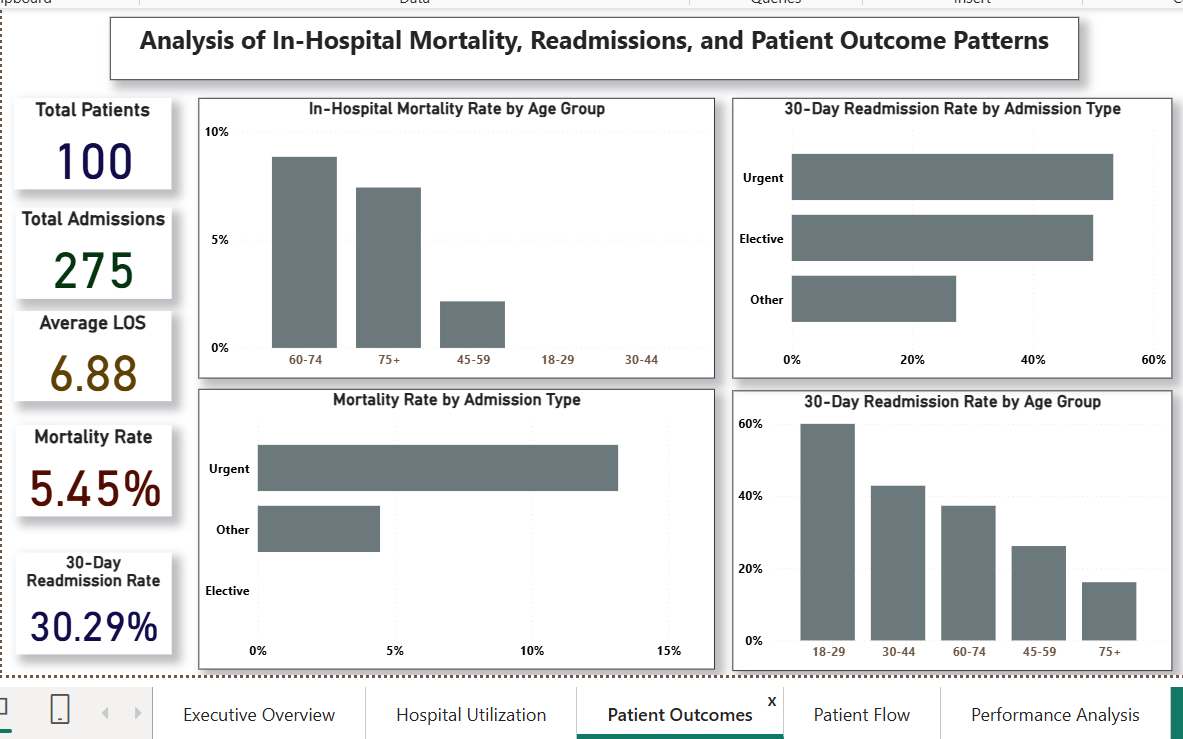

The page's visual inventory and layout, read from the dashboard file:
{"tool":"powerbi","page":{"name":"Patient Outcomes","canvas":[1280,720],"ordinal":2},"visuals":[{"type":"textbox","box":[116.6,9.7,1046,68],"z":0},{"type":"card","title":"Total Patients","fields":{"Values":["hospital_analytics.Total Patients"]},"box":[13,97.2,170,98.8],"z":1000},{"type":"card","title":"Total Admissions","fields":{"Values":["hospital_analytics.Total Admissions"]},"box":[14.6,215.4,168.4,98.8],"z":2000},{"type":"card","title":"Average LOS","fields":{"Values":["hospital_analytics.Average LOS"]},"box":[13,327.1,170,97.2],"z":3000},{"type":"card","title":"Mortality Rate","fields":{"Values":["hospital_analytics.Mortality Rate"]},"box":[14.6,450.1,168.4,98.8],"z":4000},{"type":"card","title":"30-Day Readmission Rate","fields":{"Values":["hospital_analytics.30-Day Readmission Rate"]},"box":[14.6,587.8,168.4,110.1],"z":5000},{"type":"clusteredColumnChart","title":"In-Hospital Mortality Rate by Age Group","fields":{"Category":["hospital_analytics.age_group"],"Y":["hospital_analytics.Mortality Rate"]},"box":[212.1,97.2,557,302.8],"z":6000},{"type":"clusteredBarChart","title":"Mortality Rate by Admission Type","fields":{"Category":["hospital_analytics.admission_type_group"],"Y":["hospital_analytics.Mortality Rate"]},"box":[212.1,411.3,557,302.8],"z":6001},{"type":"clusteredColumnChart","title":"30-Day Readmission Rate by Age Group","fields":{"Category":["hospital_analytics.age_group"],"Y":["hospital_analytics.30-Day Readmission Rate"]},"box":[788.6,412.9,474.4,302.8],"z":6002},{"type":"clusteredBarChart","title":"30-Day Readmission Rate by Admission Type","fields":{"Category":["hospital_analytics.admission_type_group"],"Y":["hospital_analytics.30-Day Readmission Rate"]},"box":[788.6,97.2,474.4,302.8],"z":6003}]}

Visuals, with their boxes on the page's 1280x720 design canvas (x1, y1, x2, y2). These are canvas units, not pixel positions in the 1183x739 screenshot, which may show the page scaled, cropped or inside an application window:
textbox: select_region(117, 10, 1163, 78)
"Total Patients" card: select_region(13, 97, 183, 196)
"Total Admissions" card: select_region(15, 215, 183, 314)
"Average LOS" card: select_region(13, 327, 183, 424)
"Mortality Rate" card: select_region(15, 450, 183, 549)
"30-Day Readmission Rate" card: select_region(15, 588, 183, 698)
"In-Hospital Mortality Rate by Age Group" clusteredColumnChart: select_region(212, 97, 769, 400)
"Mortality Rate by Admission Type" clusteredBarChart: select_region(212, 411, 769, 714)
"30-Day Readmission Rate by Age Group" clusteredColumnChart: select_region(789, 413, 1263, 716)
"30-Day Readmission Rate by Admission Type" clusteredBarChart: select_region(789, 97, 1263, 400)
